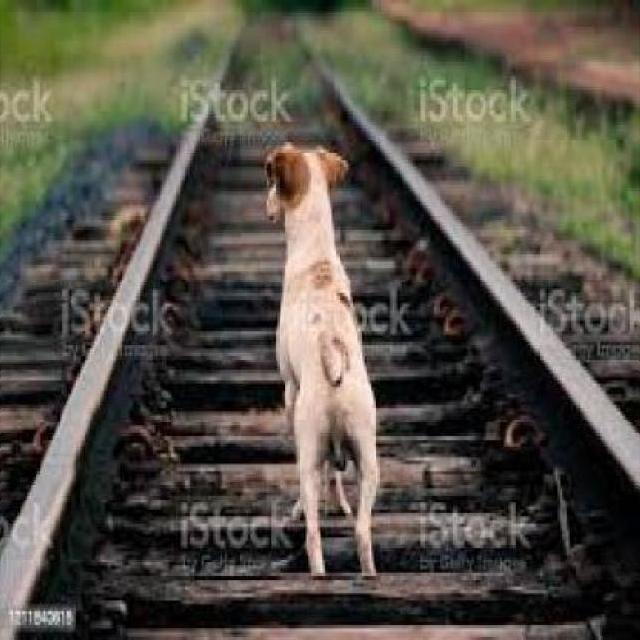rail: (2, 13, 640, 637)
